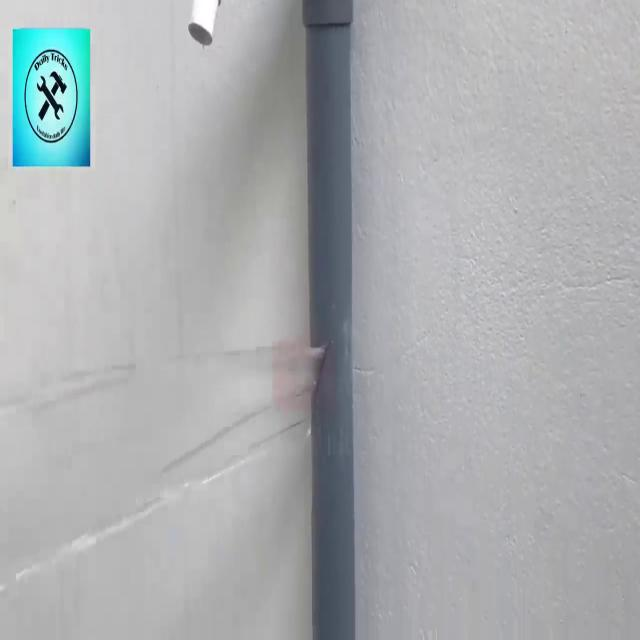leak: (0, 337, 330, 598)
